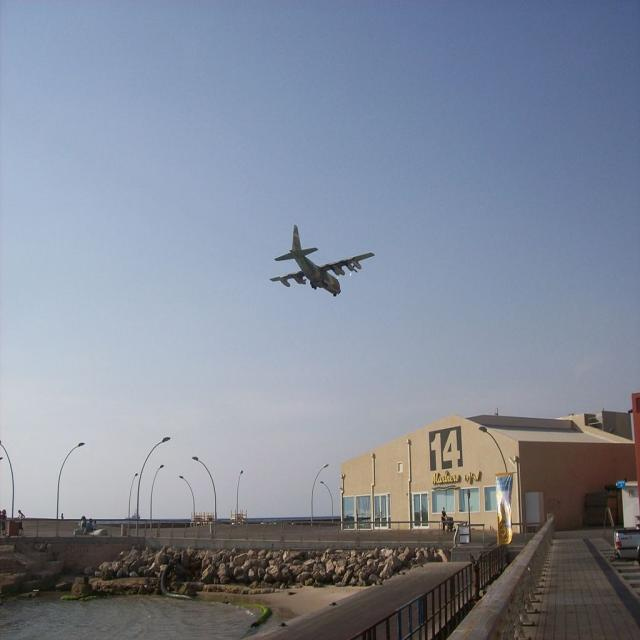MIL_Plane: (285, 221, 359, 292)
